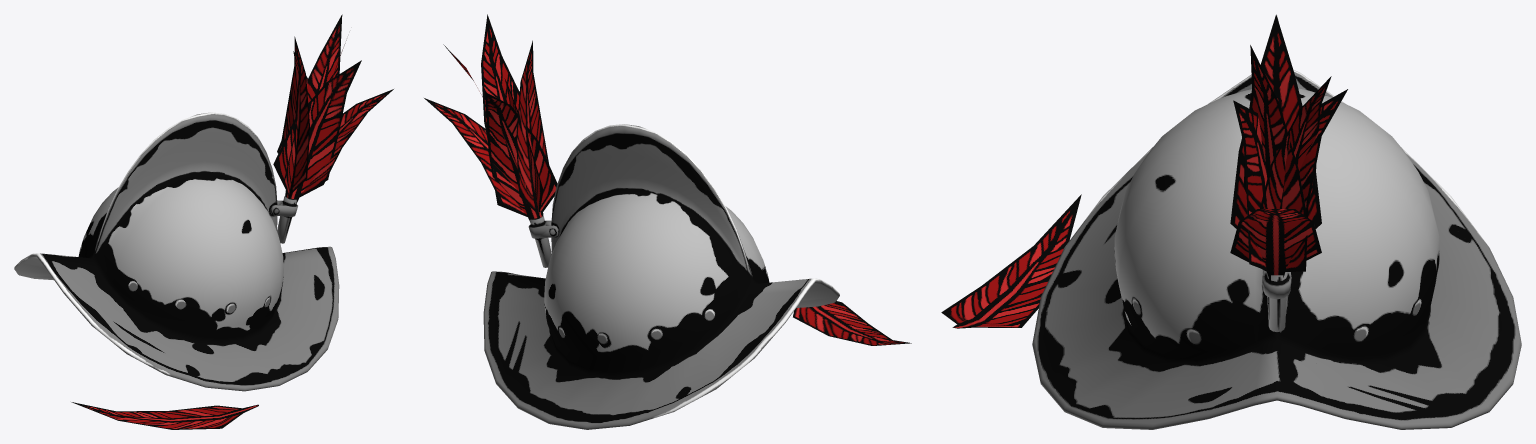
Rendered from Day15_Helmet.fbx.
3 renders of one model, left to right at view 1: azimuth 30°, elevation 25°; view 2: azimuth 150°, elevation 25°; view 3: azimuth 270°, elevation 25°, orthographic. The views are drawn at different scales.
Parts seen in each view (by area): view 1: Day15_Helm; view 2: Day15_Helm; view 3: Day15_Helm.
Boxes of the visible parts, x1=… form: Day15_Helm: x1=14, y1=14, x2=393, y2=429; Day15_Helm: x1=424, y1=14, x2=911, y2=429; Day15_Helm: x1=941, y1=14, x2=1521, y2=429.
Bounding box in the file's own units: 407 × 283 × 332.
